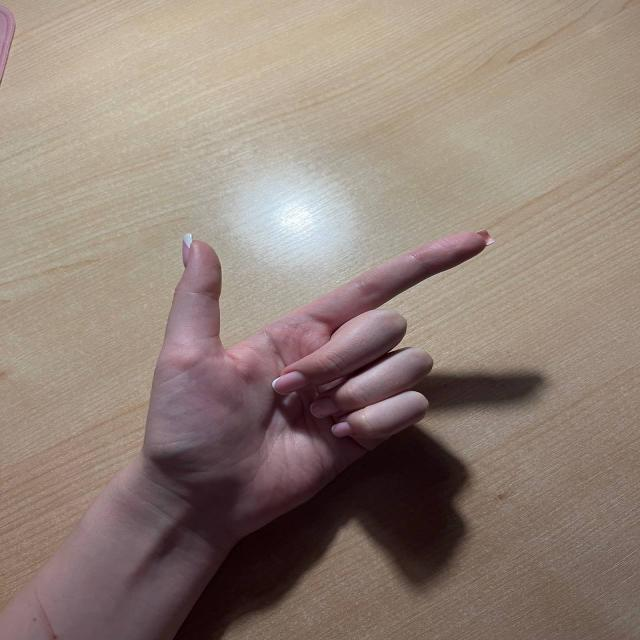g: (144, 205, 509, 497)
